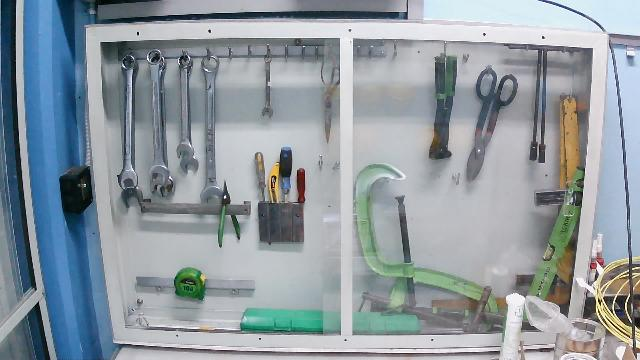tang_cucut_lancip_2: (213, 177, 244, 250)
